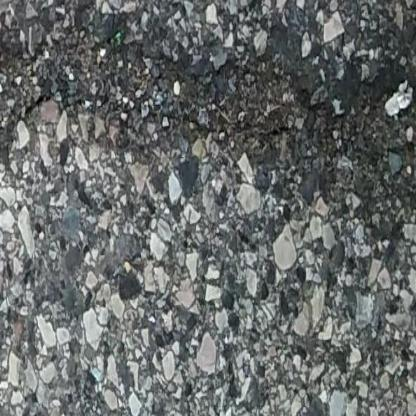Cracks: (0, 22, 416, 262)
